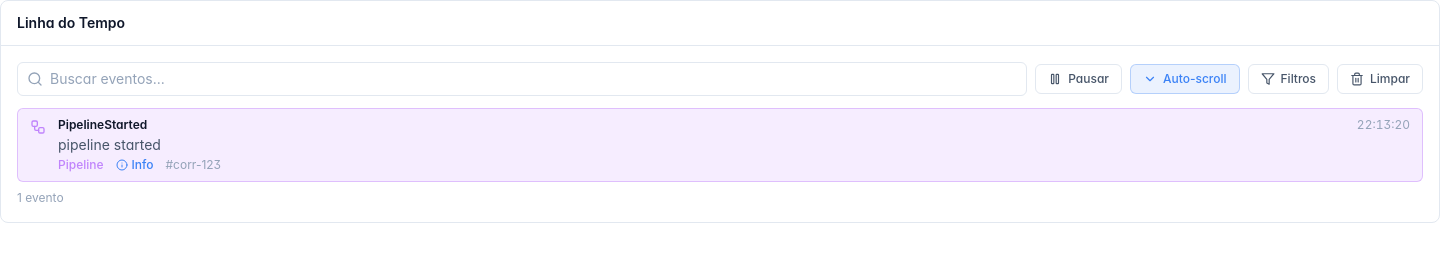
Scenario: TimelinePanel › botão pause alterna estado
Click the button with test id "timeline-pause-btn".
click(1079, 79)  # box [1035, 64, 1122, 94]
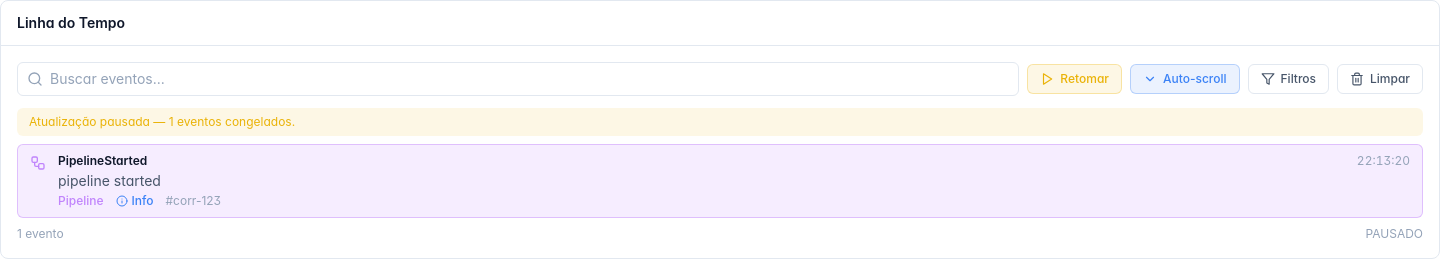
Check: the text "Atualização pausada — 1 eventos congelados." is shown, box [17, 108, 1423, 136]
